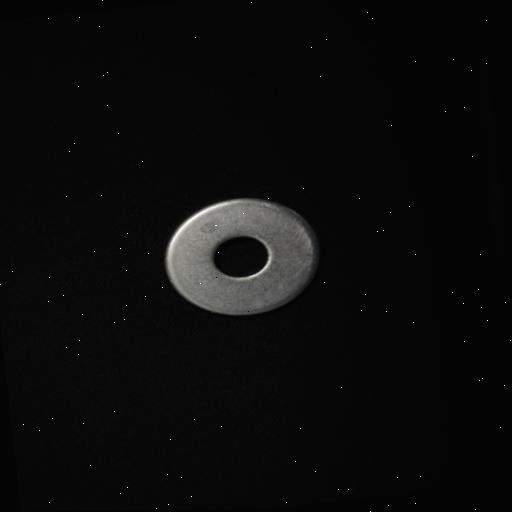Product: (165, 198, 320, 315)
Scratch: (283, 220, 324, 282), (251, 233, 278, 271)
